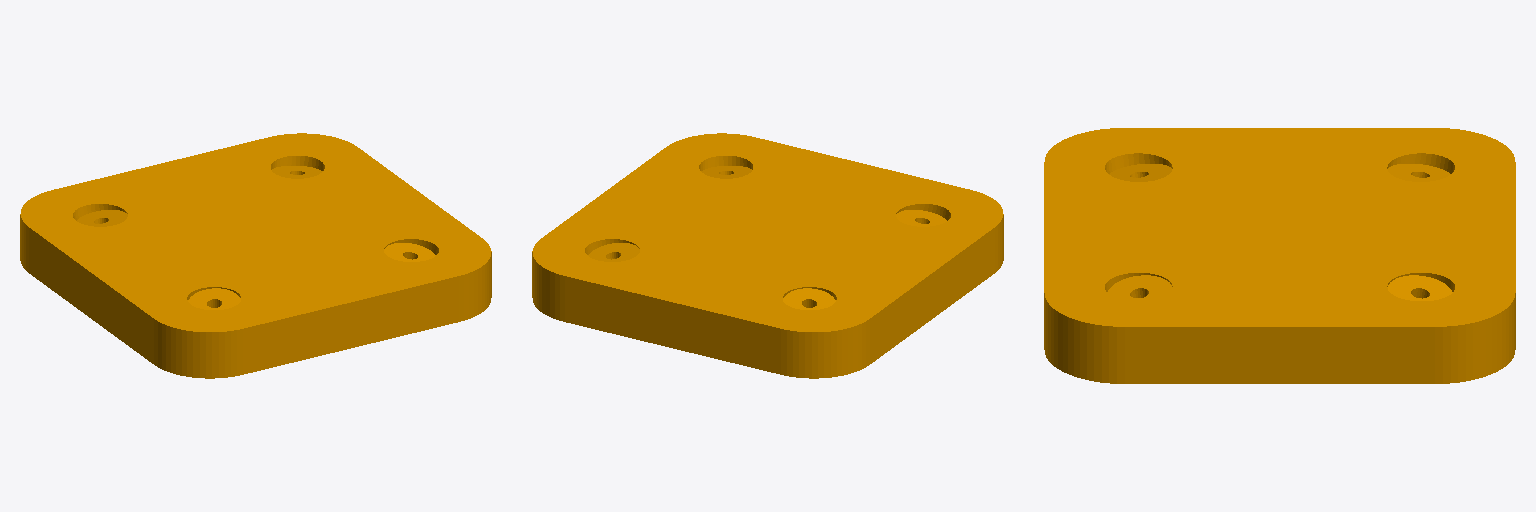
robot.urdf — flisat_plate:
<?xml version="1.0" encoding="utf-8"?>
<robot name="flisat_plate">
  <link name="flisat_plate_link">
    <contact>
      <lateral_friction value="1.0"/>
    </contact>
    <inertial>
      <origin rpy="0 0 0" xyz="0 0 0"/>
       <mass value="1.0"/>
       <inertia ixx="1" ixy="0" ixz="0" iyy="1" iyz="0" izz="1"/>
    </inertial>
    <visual>
      <origin rpy="0 0 0" xyz="0 0 0"/>
      <geometry>
        <mesh filename="package://stool_description/meshes/flisat_plate.stl" scale="1 1 1"/>
      </geometry>
    </visual>
    <collision>
      <origin rpy="0 0 0" xyz="0 0 0"/>
      <geometry>
        <mesh filename="package://stool_description/meshes/flisat_plate.stl" scale="1 1 1" />
      </geometry>
    </collision>
  </link>

</robot>

--- Render facts (derived) ---
Views: 3 orthographic renders of the robot side by side, from view 1: azimuth 30°, elevation 25°; view 2: azimuth 150°, elevation 25°; view 3: azimuth 270°, elevation 25°.
Model flisat_plate with 1 links and 0 joints (none), rooted at flisat_plate_link, posed every joint at zero.
Visible links, largest first — view 1: flisat_plate_link; view 2: flisat_plate_link; view 3: flisat_plate_link.
Boxes of the visible links, left/top/right/bottom form: flisat_plate_link: left=20, top=133, right=491, bottom=378; flisat_plate_link: left=532, top=133, right=1003, bottom=378; flisat_plate_link: left=1044, top=128, right=1515, bottom=383.
Size in the robot's own frame: 239 by 239 by 32 metres.
1 mesh visuals loaded from 1 distinct referenced files (1 binary STL).